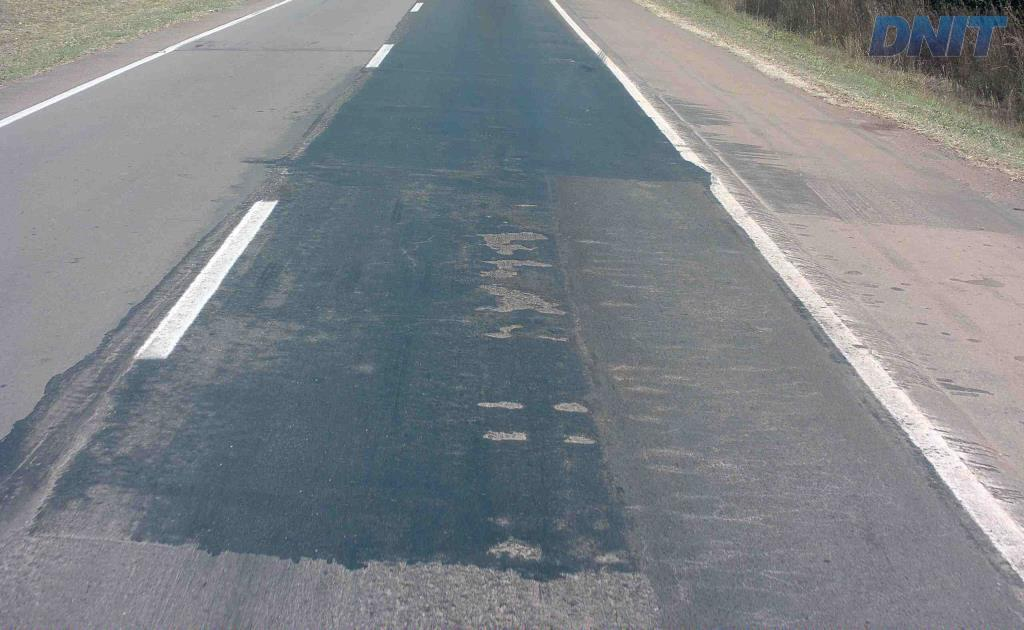pothole: (468, 280, 570, 318), (471, 225, 551, 255), (490, 528, 545, 563), (472, 257, 554, 278), (478, 415, 529, 448), (548, 394, 596, 422), (476, 390, 534, 411), (476, 319, 526, 337), (563, 429, 603, 451), (532, 332, 573, 343)
